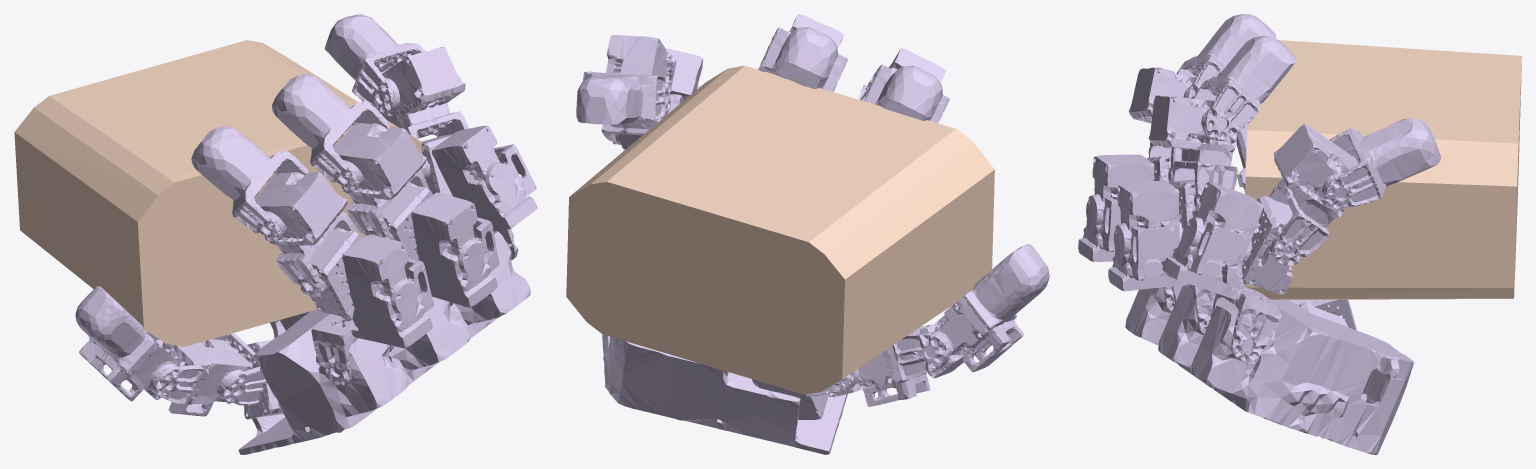
Rendered from 97b8d3c70303f1-closed.glb.
3 views of the same model, side by side, from view 1: azimuth 30°, elevation 25°; view 2: azimuth 150°, elevation 25°; view 3: azimuth 270°, elevation 25° (orthographic). The views are drawn at different scales.
Visible parts, largest first — view 1: LEAP_hand, world; view 2: world, LEAP_hand; view 3: LEAP_hand, world.
Boxes of the visible parts, x1,y1,x2,y2 form: LEAP_hand: (75, 14, 537, 454); world: (14, 40, 423, 346); world: (566, 65, 994, 394); LEAP_hand: (576, 14, 1049, 454); LEAP_hand: (1078, 14, 1440, 454); world: (1242, 40, 1521, 299).
Size of the model in its own units: 0.23 by 0.1976 by 0.2041.
